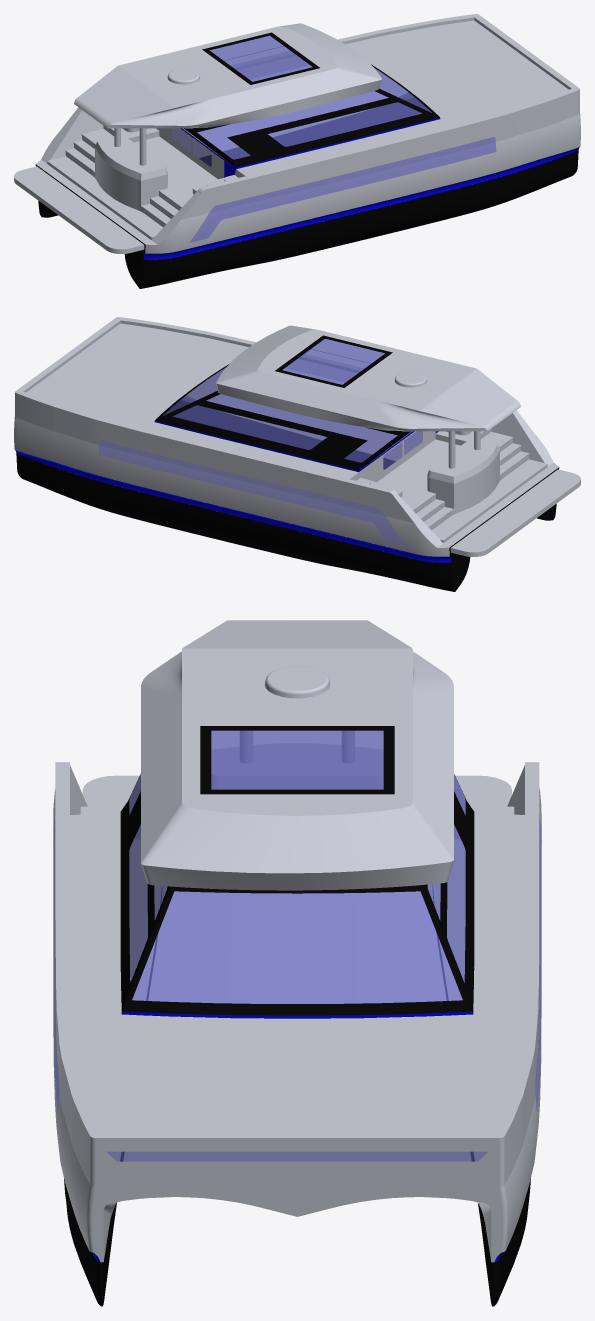
The model's file is Luxuryyacht.glb.
The picture shows the model from 3 angles, top to bottom: view 1: azimuth 30°, elevation 25°; view 2: azimuth 150°, elevation 25°; view 3: azimuth 270°, elevation 25°; orthographic projection. The views are drawn at different scales.
Parts seen in each view (by area): view 1: Luxury_Motor_Yacht_Catamaran; view 2: Luxury_Motor_Yacht_Catamaran; view 3: Luxury_Motor_Yacht_Catamaran.
Boxes of the visible parts, <box> form: Luxury_Motor_Yacht_Catamaran: <box>14,14,580,288</box>; Luxury_Motor_Yacht_Catamaran: <box>14,317,580,591</box>; Luxury_Motor_Yacht_Catamaran: <box>53,620,541,1306</box>.
Bounding box in the file's own units: 16 × 5.27 × 7.23.
